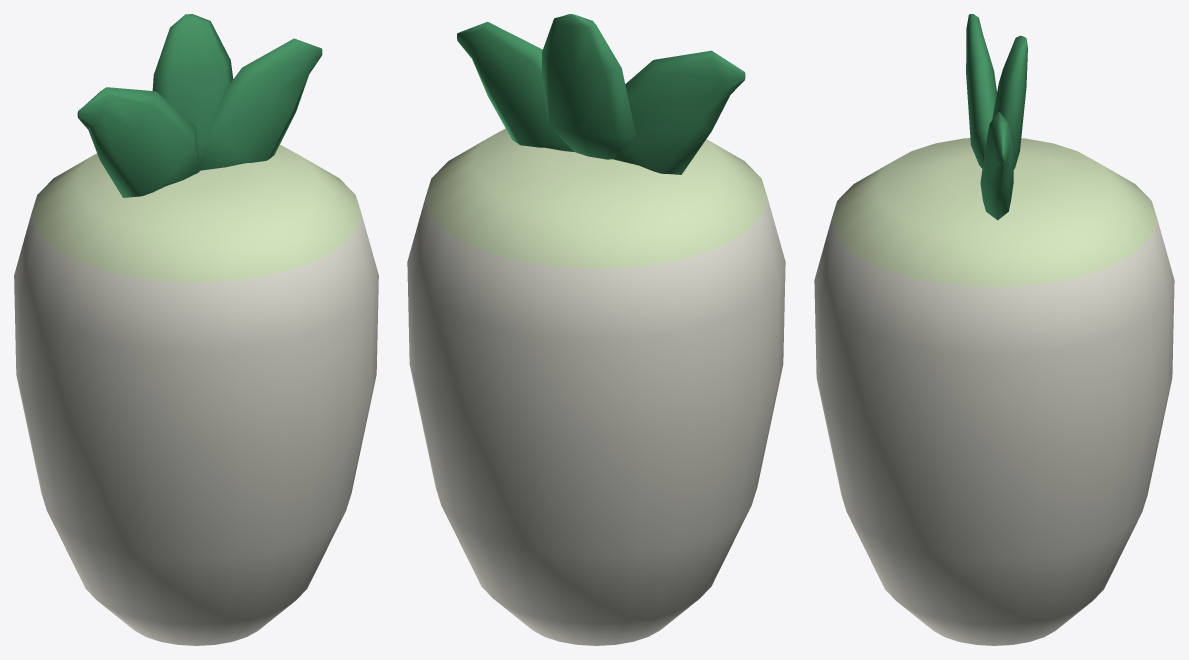
Rendered from radish.glb.
3 renders of one model, left to right at view 1: azimuth 30°, elevation 25°; view 2: azimuth 150°, elevation 25°; view 3: azimuth 270°, elevation 25°, orthographic. The views are drawn at different scales.
Parts seen in each view (by area): view 1: radish; view 2: radish; view 3: radish.
Part boxes in pixels (box(x1,y1,x2,y2)): radish: box(14, 14, 378, 645); radish: box(407, 14, 785, 645); radish: box(814, 14, 1174, 645).
Size of the model in its own units: 0.3329 by 0.609 by 0.3329.
